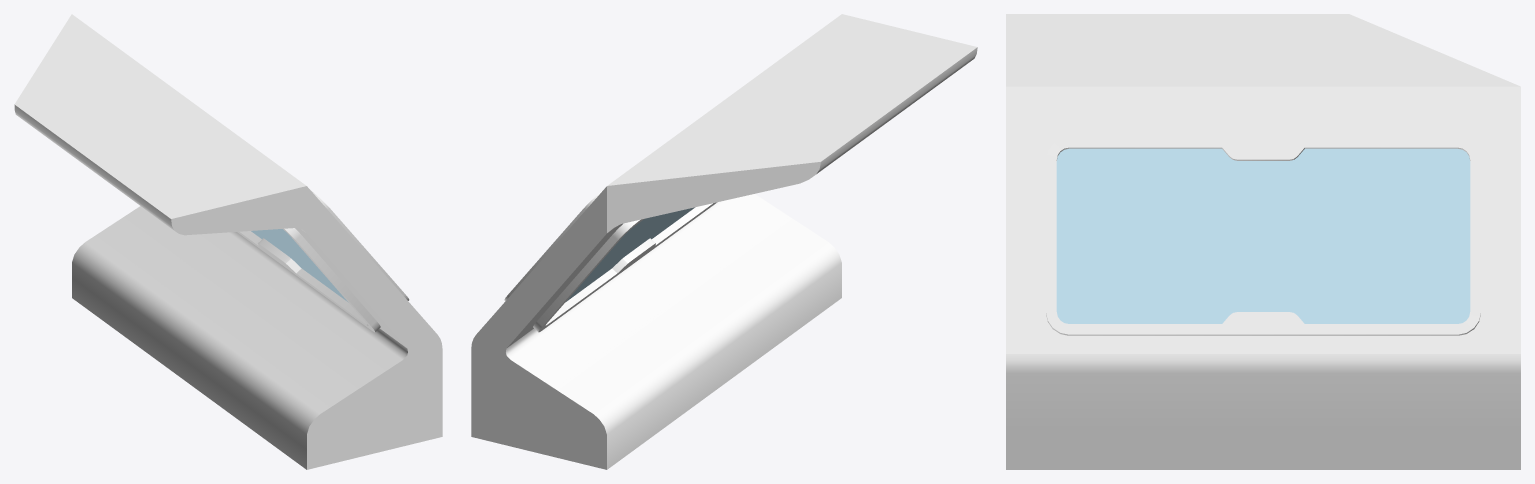
Rendered from Wall_Inclined_02_CoinRight.glb.
The picture shows the model from 3 angles, left to right: view 1: azimuth 30°, elevation 25°; view 2: azimuth 150°, elevation 25°; view 3: azimuth 270°, elevation 25°; orthographic projection. The views are drawn at different scales.
Parts seen in each view (by area): view 1: Wall_Inclined_02_CoinRight, Glass; view 2: Wall_Inclined_02_CoinRight, Glass; view 3: Wall_Inclined_02_CoinRight, Glass.
Part boxes in pixels (<box>): Wall_Inclined_02_CoinRight: <box>14,14,442,469</box>; Glass: <box>251,229,348,302</box>; Wall_Inclined_02_CoinRight: <box>471,14,977,469</box>; Glass: <box>566,207,694,301</box>; Wall_Inclined_02_CoinRight: <box>1006,14,1520,469</box>; Glass: <box>1056,148,1470,323</box>.
Bounding box in the file's own units: 4 × 4 × 6.
